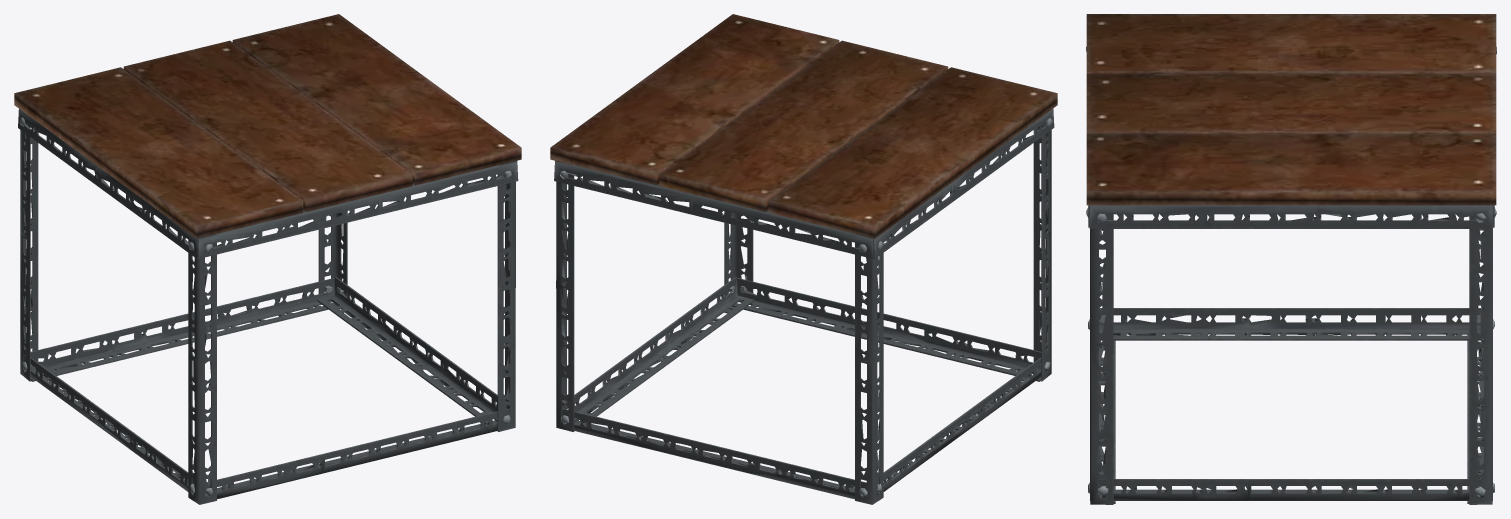
Rendered from coffee-table-industrial.6fbb5addfc.glb.
The picture shows the model from 3 angles, left to right: view 1: azimuth 30°, elevation 25°; view 2: azimuth 150°, elevation 25°; view 3: azimuth 270°, elevation 25°; orthographic projection. The views are drawn at different scales.
Parts seen in each view (by area): view 1: industrial_coffee_table; view 2: industrial_coffee_table; view 3: industrial_coffee_table.
Part boxes in pixels (x1,y1,x2,y2): industrial_coffee_table: [14, 14, 521, 504]; industrial_coffee_table: [550, 14, 1057, 504]; industrial_coffee_table: [1086, 14, 1496, 504].
Bounding box in the file's own units: 0.7723 × 0.6375 × 0.7535.
1 material, 1 textured.
